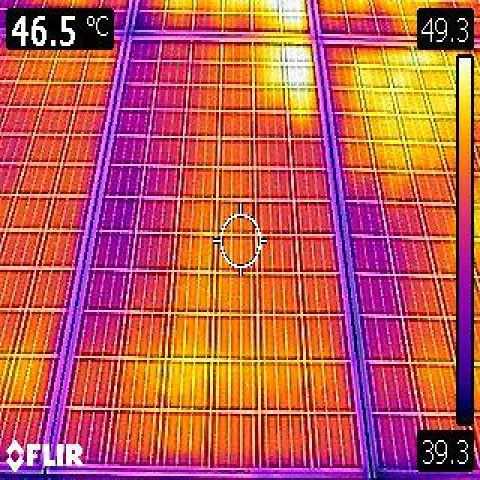fault: (288, 67, 314, 84), (288, 46, 313, 60)
